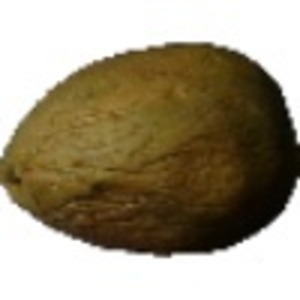mamão: (2, 26, 297, 277)
